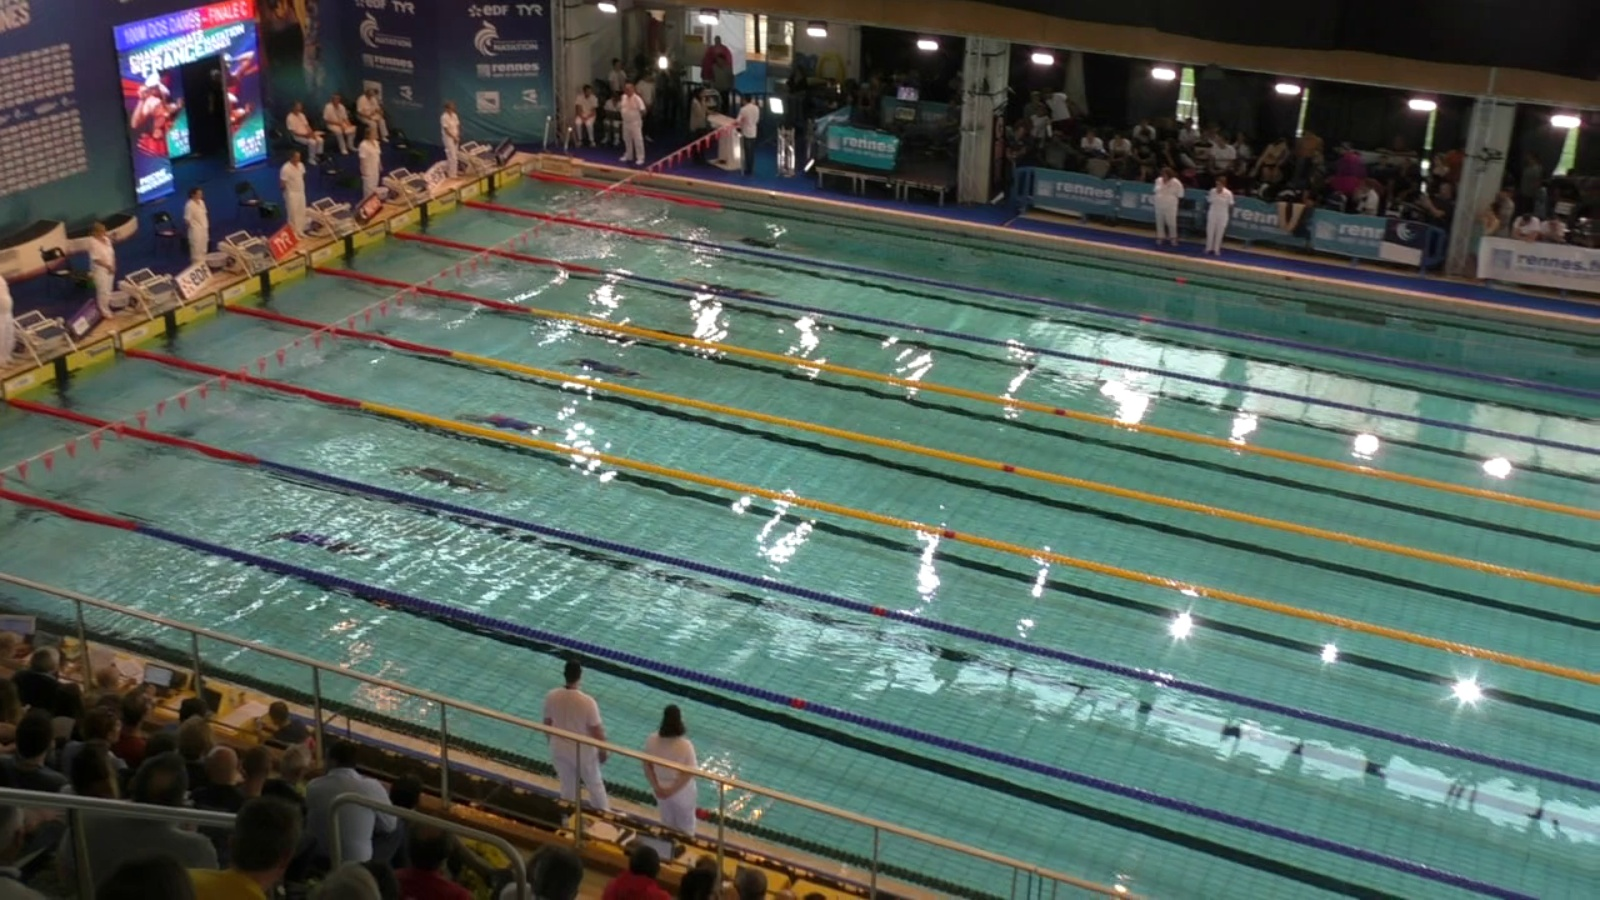swimmerwdd: (262, 521, 385, 568), (451, 407, 577, 441), (395, 467, 507, 500), (675, 273, 784, 304), (557, 353, 657, 384), (635, 324, 719, 349), (726, 232, 786, 262)
